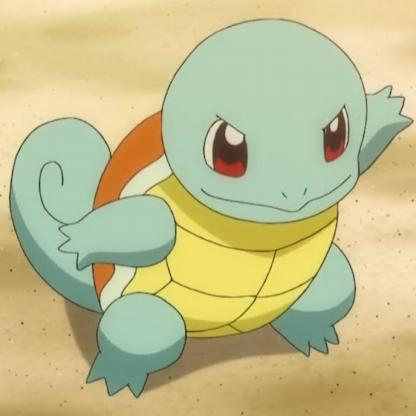Squirtle: (1, 3, 416, 402)
